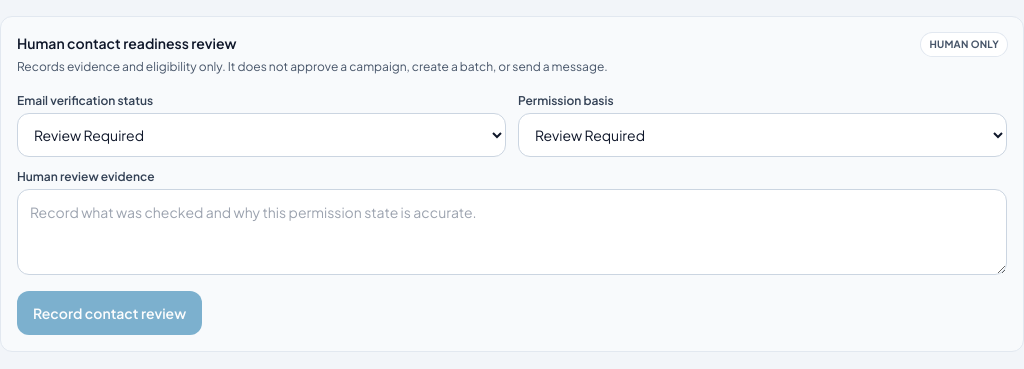
it: ProspectContactabilityReview › requires nonempty evidence while allowing evidence-only re-review
Expected: the button "Record contact review" is disabled, [17,291,202,335]
Replace the text in the text box labelled "Human review evidence" with "Refreshed the evidence without changing the recorded states." at (512, 232), box [17,189,1007,275]
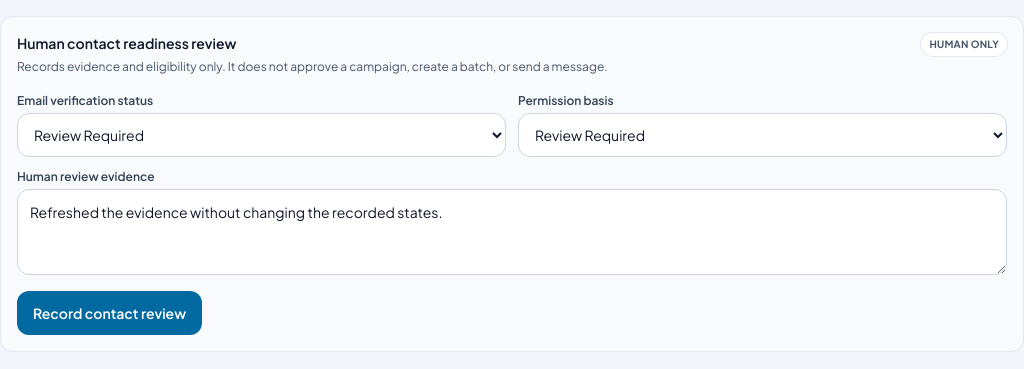
Expected: the button "Record contact review" is enabled, [17,291,202,335]
